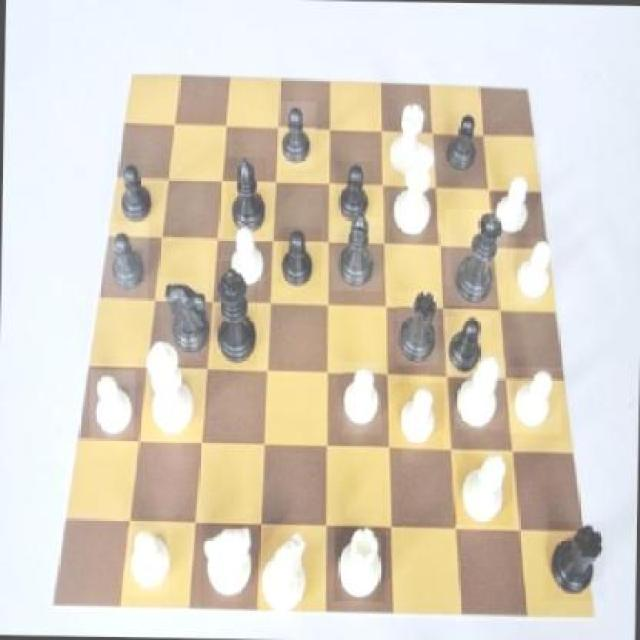bishop: (331, 217, 382, 292), (223, 156, 265, 237)
black-bishop: (212, 262, 258, 368)
black-king: (158, 278, 208, 366)
black-knight: (105, 222, 149, 299), (443, 315, 491, 373), (278, 226, 322, 287), (442, 110, 488, 168), (279, 101, 316, 170), (335, 160, 373, 227), (119, 164, 156, 223)
black-pawn: (444, 208, 508, 305)
black-queen: (546, 520, 606, 600), (397, 291, 440, 366)
black-rook: (452, 454, 512, 526), (456, 357, 506, 430)
white-bishop: (143, 340, 194, 440)
white-king: (198, 523, 254, 608), (258, 536, 316, 614)
white-knight: (506, 366, 562, 434), (390, 382, 444, 448), (90, 371, 136, 440), (508, 239, 554, 306), (124, 528, 170, 595), (490, 174, 538, 237), (343, 362, 383, 434), (226, 224, 266, 292)
white-pawn: (390, 141, 444, 237)
white-queen: (334, 523, 386, 601), (384, 103, 430, 180)
